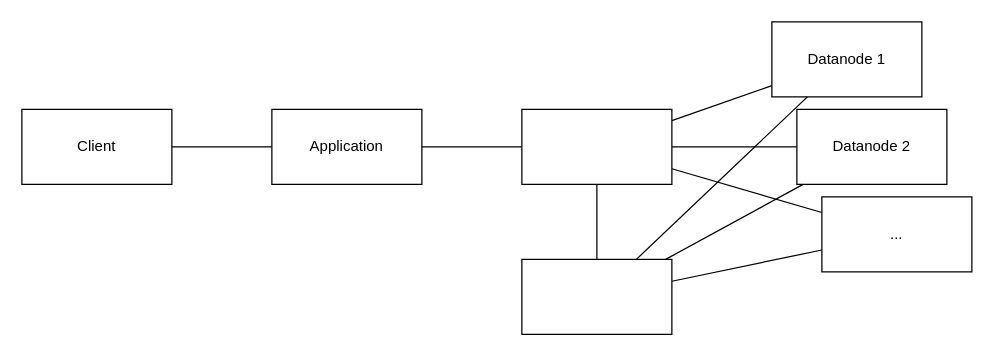
Image size: 994x356. Some labels were removed from this diagram. Here are the shapes that lost their labels. From the top down, the centre of each, then its label:
(x=596, y=146): Database
(x=596, y=296): Monitor
